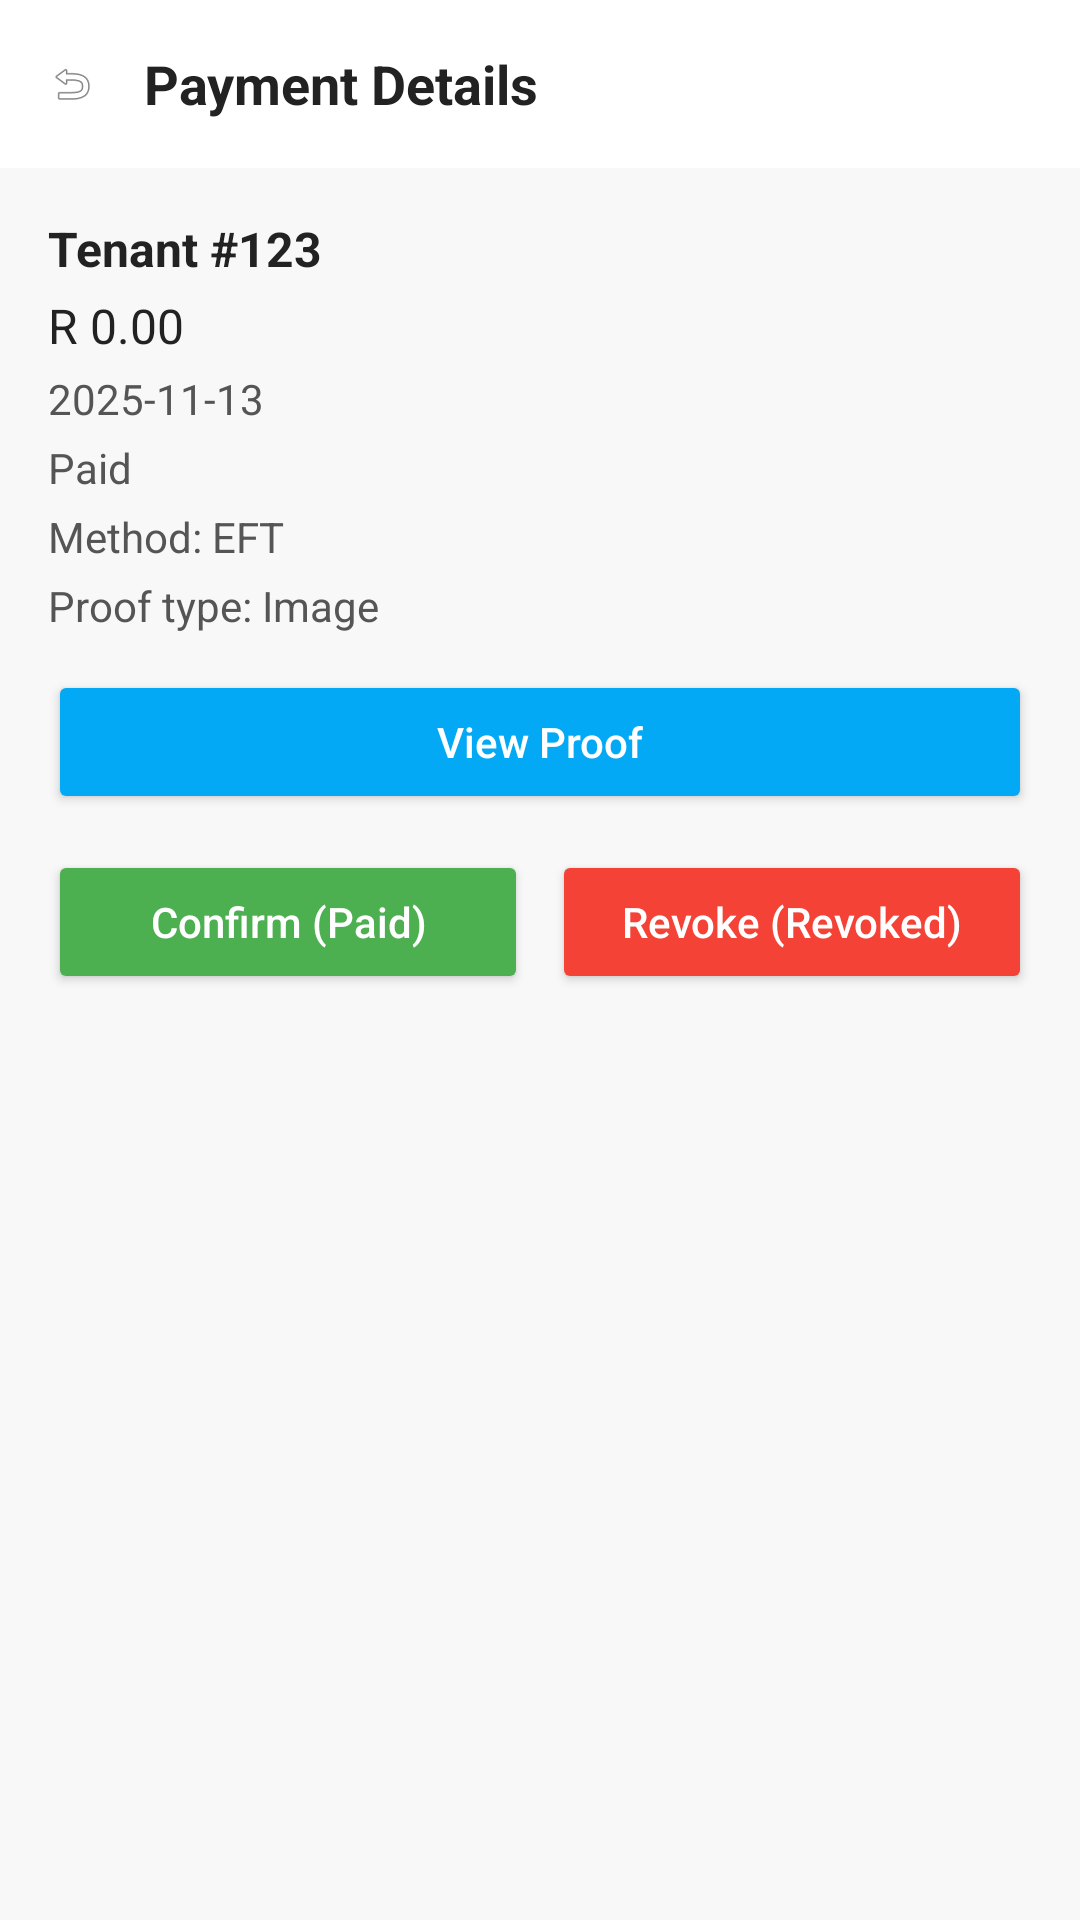

Point at icon controls on the screen. Image size 1080px x 1920px, points as (x=x, y=y).
Back: (x=72, y=84)
